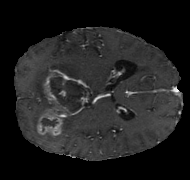Edema: (27, 62, 96, 144)
EnhancingTumors: (37, 69, 94, 135)
Necrosis: (36, 69, 92, 134)
